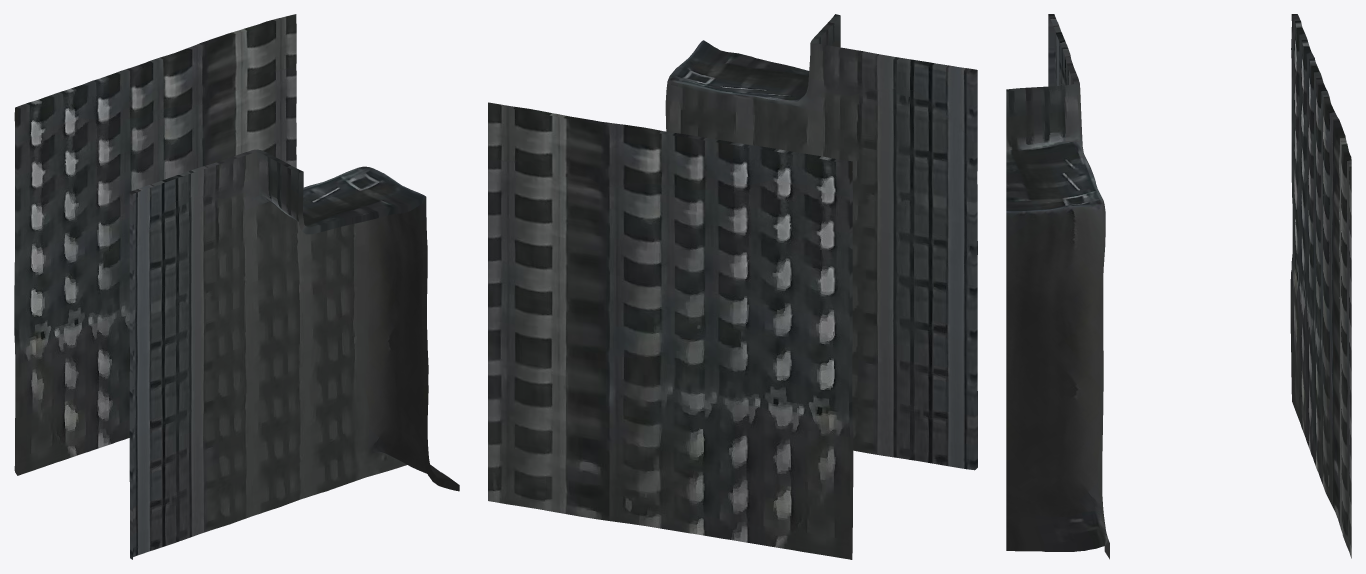
File: z20-167765-405239-h1-yup-uvflip-v3-world.glb
3 renders of one model, left to right at view 1: azimuth 30°, elevation 25°; view 2: azimuth 150°, elevation 25°; view 3: azimuth 270°, elevation 25°, orthographic. The views are drawn at different scales.
Bounding box in the file's own units: 30.16 × 34.4 × 27.8.
1 material, 1 textured.
